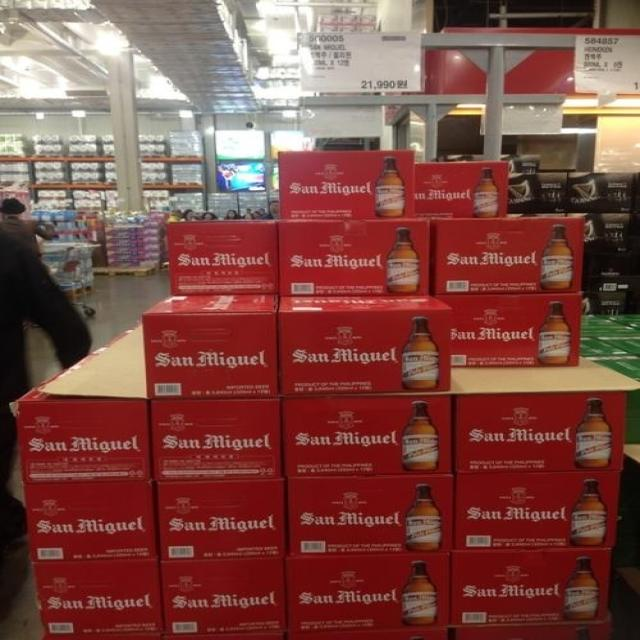box: (10, 346, 150, 484), (278, 296, 453, 393), (142, 295, 279, 398), (280, 395, 452, 477), (457, 392, 628, 473), (288, 474, 454, 556), (456, 470, 621, 549), (285, 554, 452, 630), (451, 548, 611, 626), (430, 218, 584, 295), (276, 219, 430, 296), (150, 398, 282, 481), (435, 295, 584, 367), (24, 480, 157, 559), (157, 480, 287, 560), (32, 561, 163, 636), (160, 557, 284, 634), (278, 150, 413, 219), (168, 220, 278, 295), (413, 161, 508, 218), (566, 213, 631, 251), (568, 174, 632, 212), (584, 275, 640, 315), (509, 174, 567, 212), (458, 626, 612, 639), (289, 629, 447, 638), (164, 633, 282, 639), (500, 155, 539, 173), (430, 155, 485, 162), (512, 212, 564, 217)
